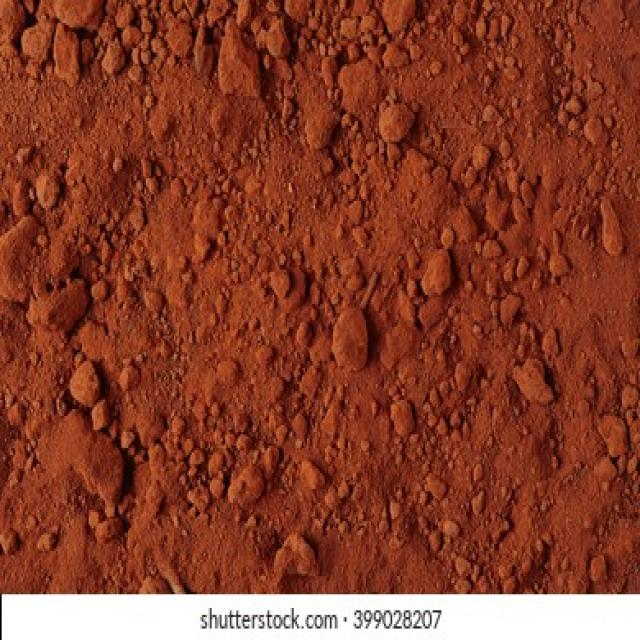Red Soil: (100, 48, 597, 530)
